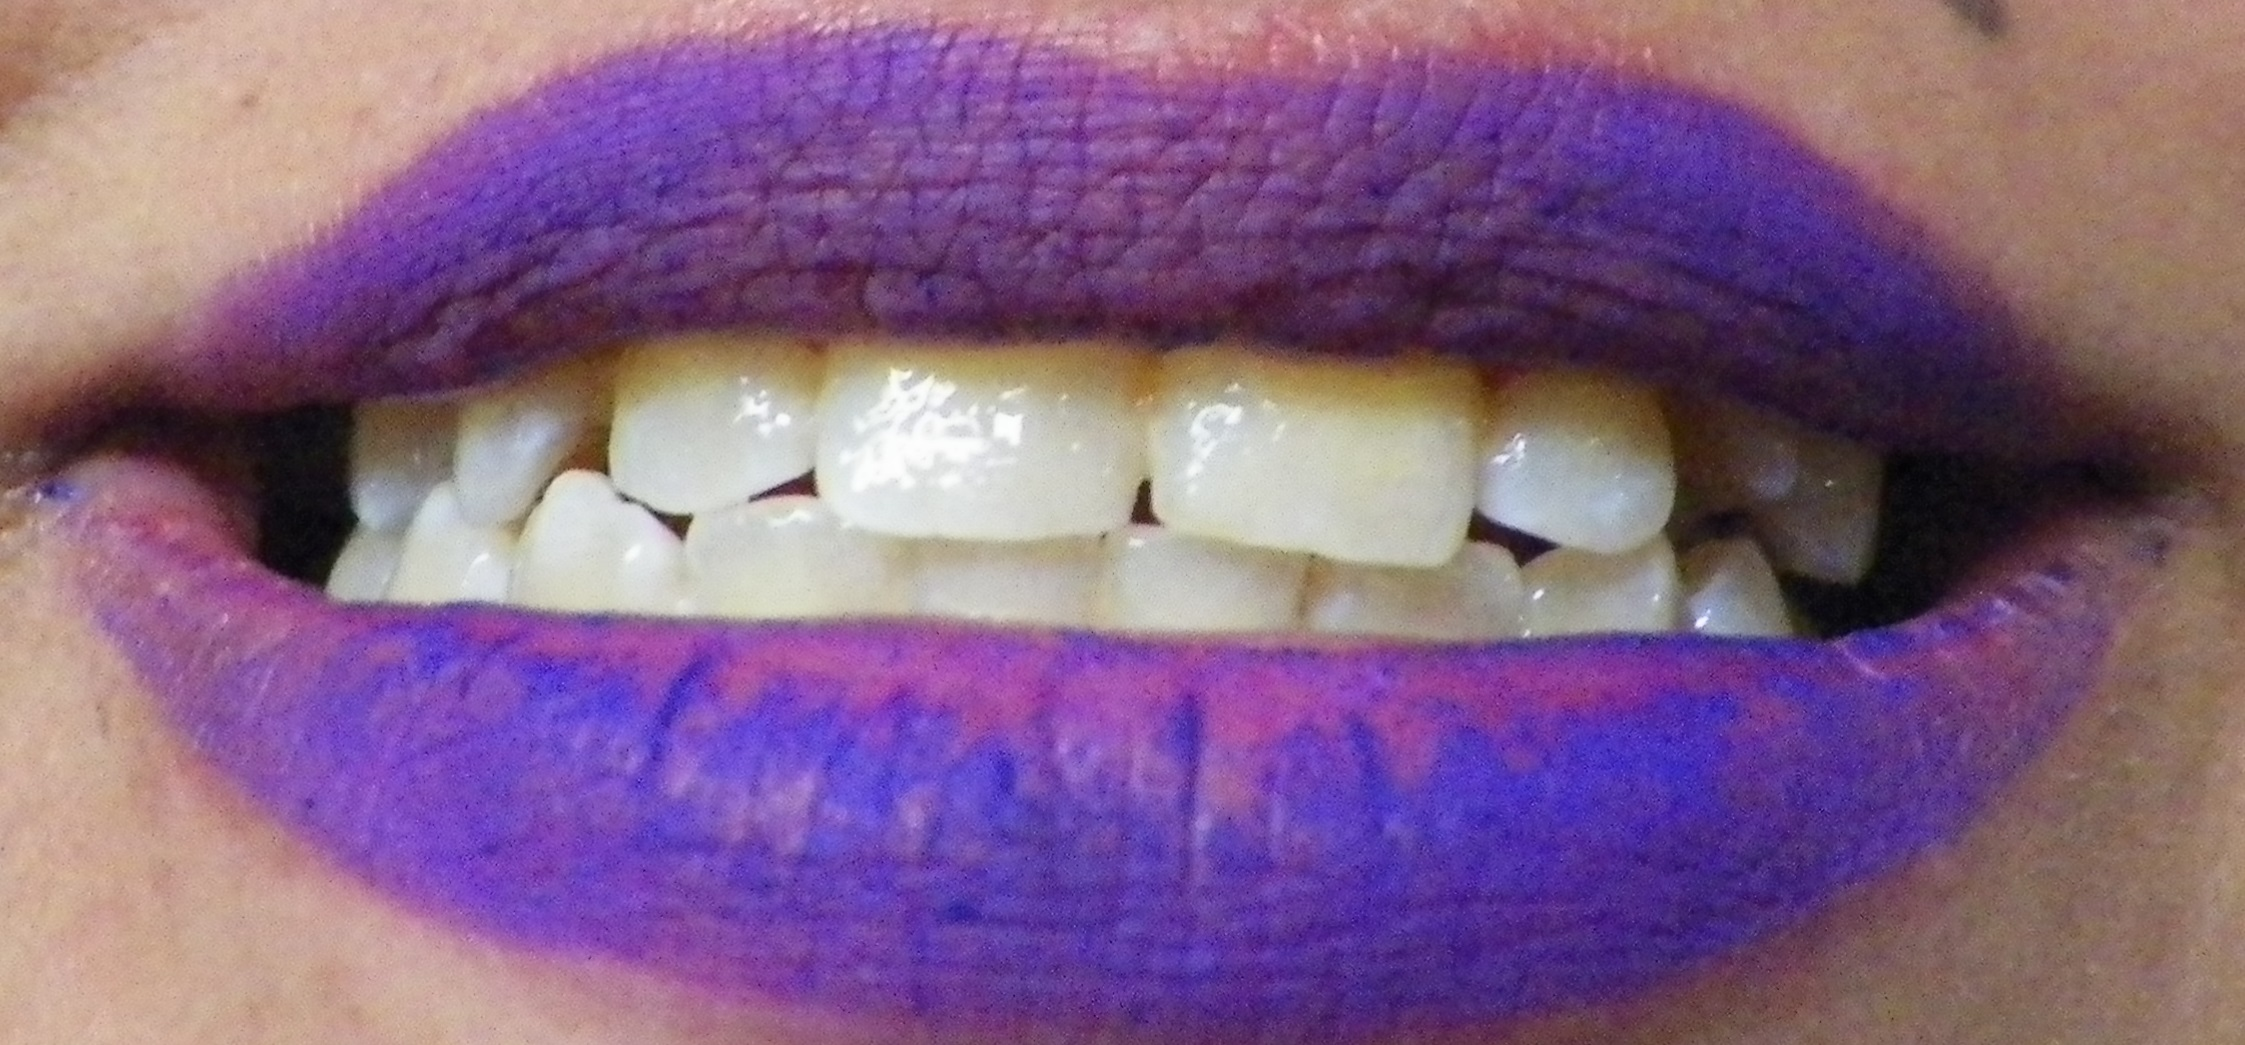boca: (344, 331, 1876, 648)
